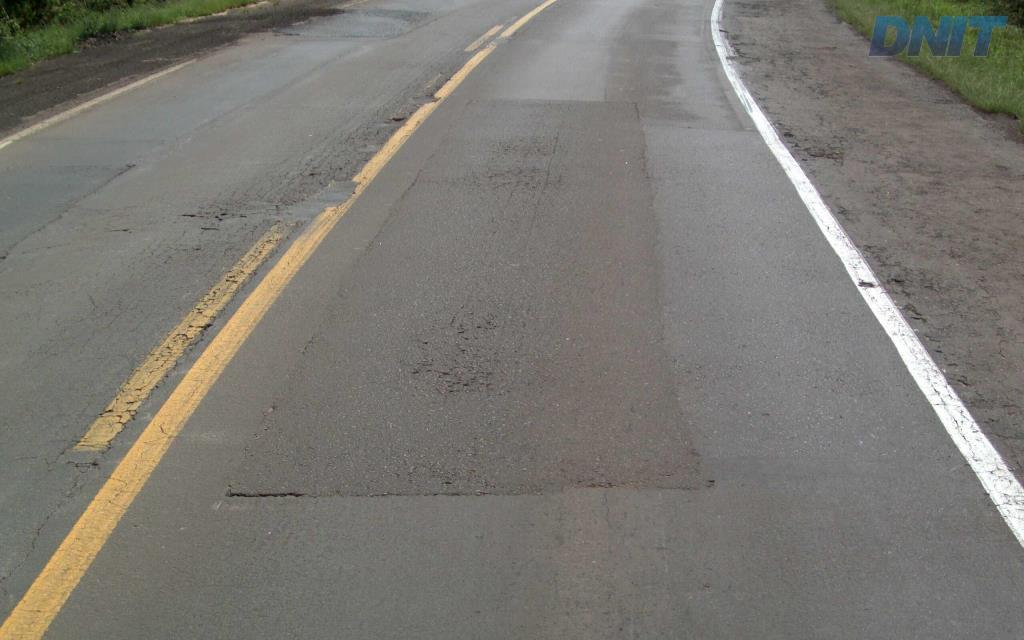crack: (425, 359, 493, 396), (427, 460, 496, 489), (224, 484, 321, 498)
